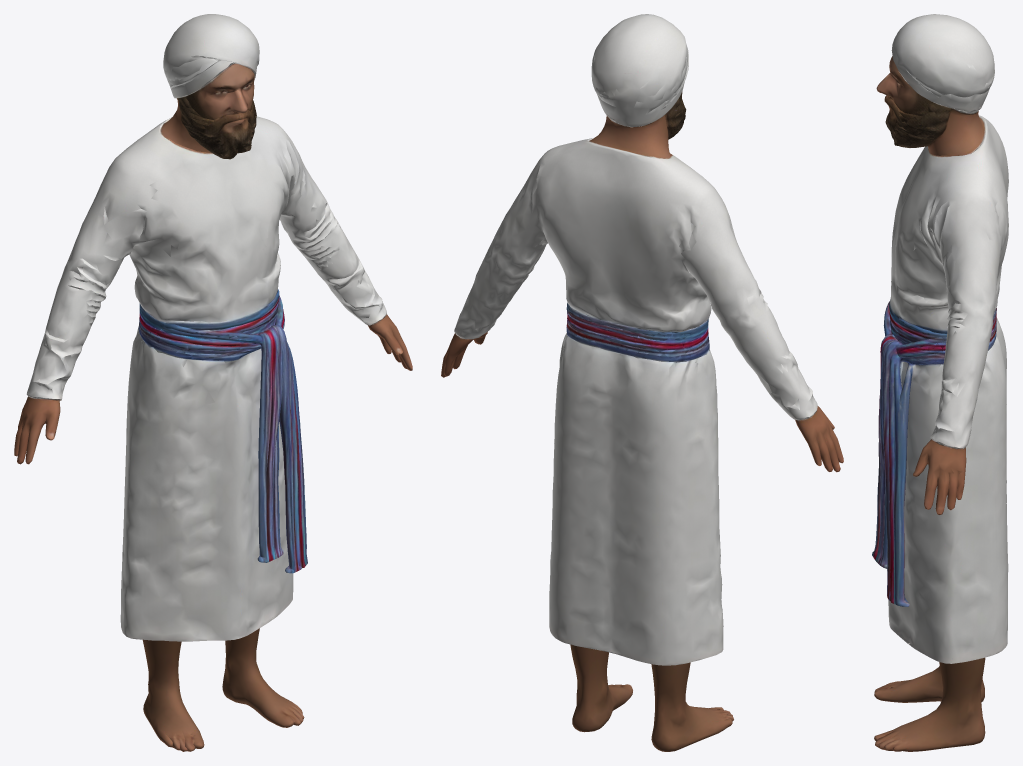
The model's file is cohen_4.glb.
3 renders of one model, left to right at view 1: azimuth 30°, elevation 25°; view 2: azimuth 150°, elevation 25°; view 3: azimuth 270°, elevation 25°, orthographic.
Visible parts, largest first — view 1: Mesh; view 2: Mesh; view 3: Mesh.
Part boxes in pixels (x1=…): Mesh: x1=14, y1=14, x2=412, y2=751; Mesh: x1=441, y1=14, x2=843, y2=751; Mesh: x1=872, y1=14, x2=1008, y2=751.
Size of the model in its own units: 1.11 by 1.89 by 0.3336.
1 material, 1 textured.
